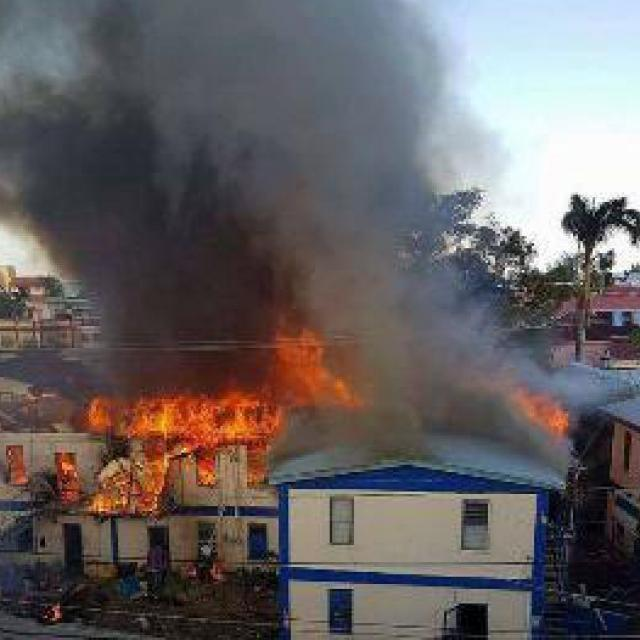fire: (35, 391, 285, 508), (278, 310, 362, 420), (514, 374, 586, 447)
smoke: (0, 36, 310, 391), (298, 263, 562, 488)
